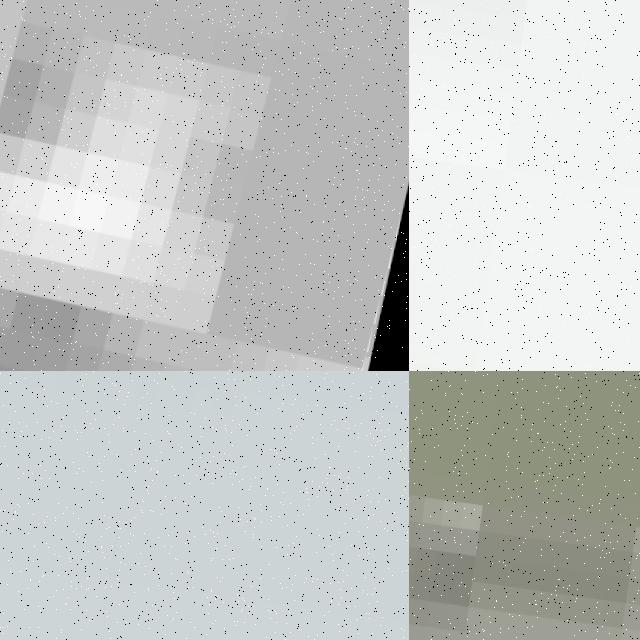drone: (0, 0, 409, 371)
